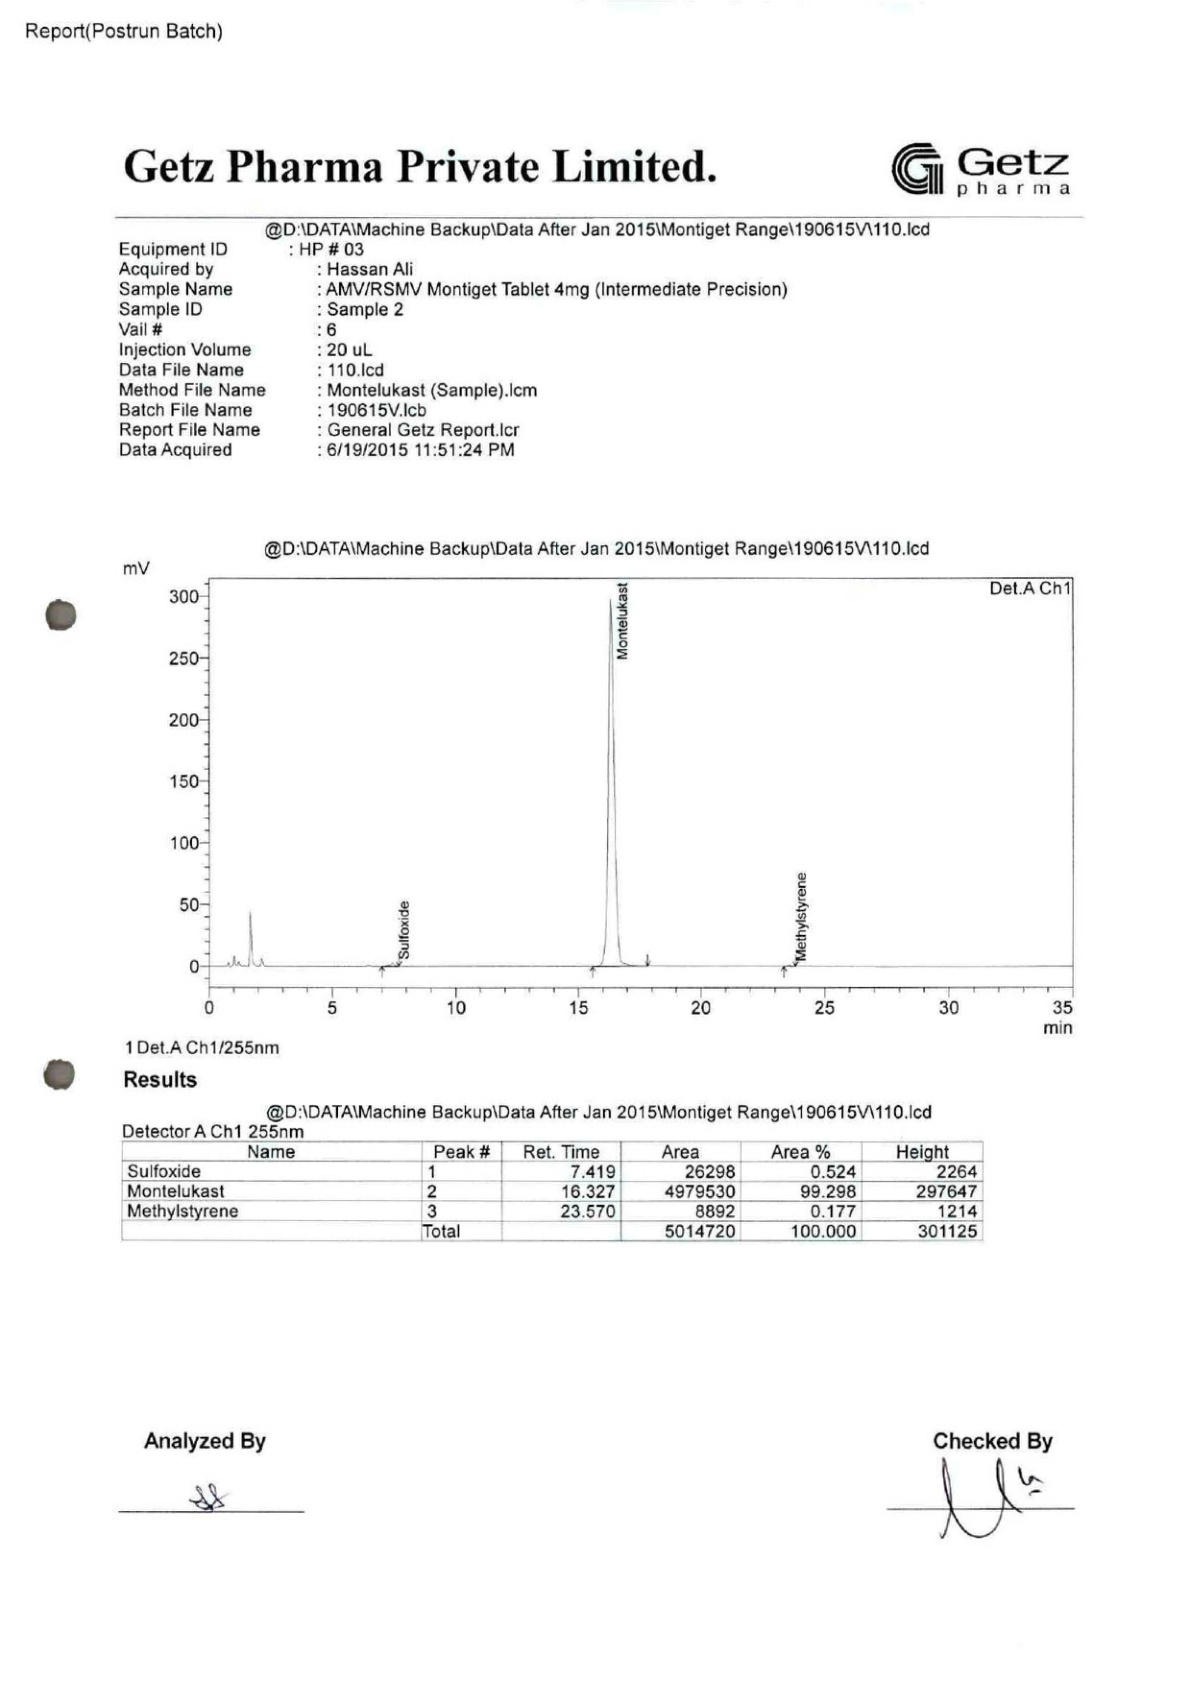full_lined: (121, 1140, 983, 1241)
nolines: (112, 238, 793, 462)
